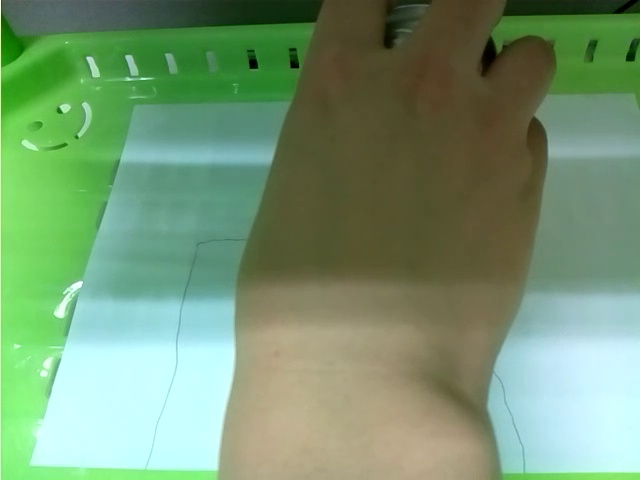hand: (233, 4, 556, 466)
